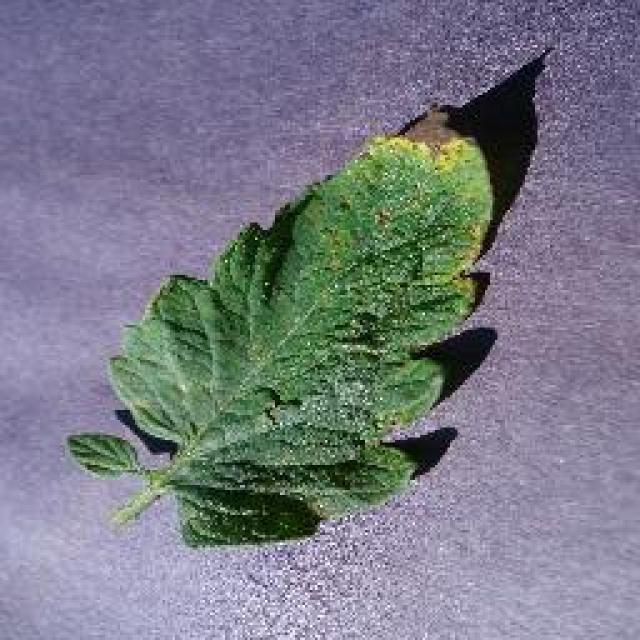Tomato___Septoria_leaf_spot: (68, 108, 490, 542)
